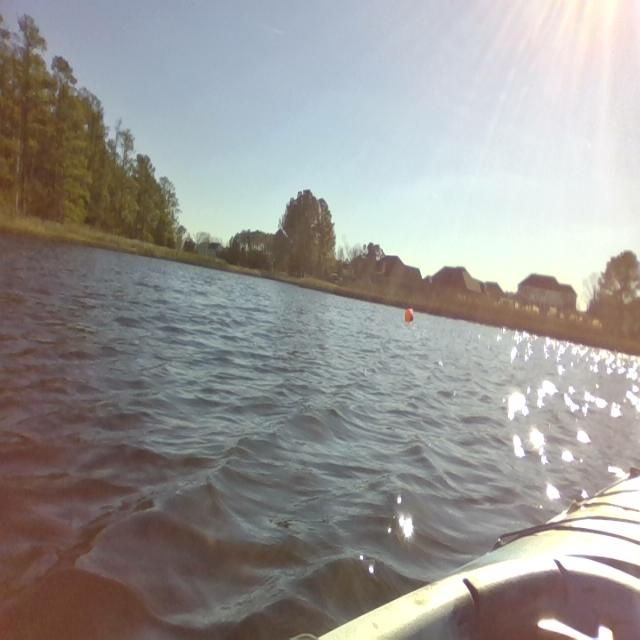Buoy: (402, 306, 420, 328)
